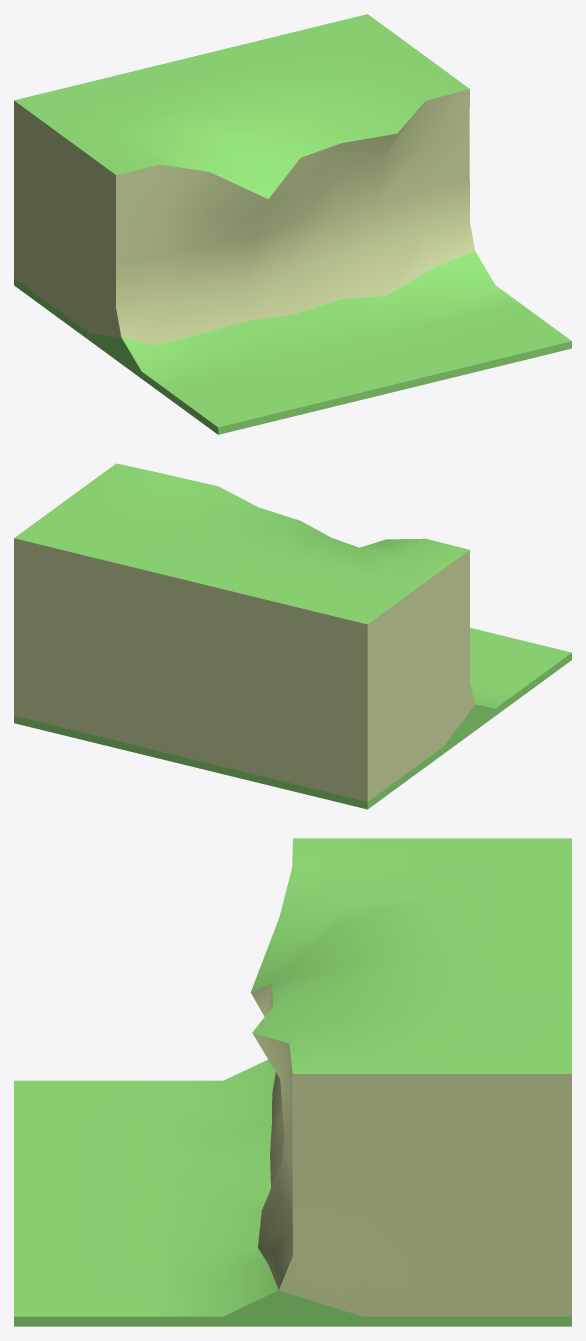
The model's file is wall_straight_1_1.glb.
3 views of the same model, one above another, from view 1: azimuth 30°, elevation 25°; view 2: azimuth 150°, elevation 25°; view 3: azimuth 270°, elevation 25° (orthographic). The views are drawn at different scales.
Parts seen in each view (by area): view 1: wall_straight_1; view 2: wall_straight_1; view 3: wall_straight_1.
Part boxes in pixels (x1,y1,x2,y2): wall_straight_1: [14, 14, 571, 434]; wall_straight_1: [14, 463, 571, 809]; wall_straight_1: [14, 838, 571, 1326].
Bounding box in the file's own units: 2 × 1 × 2.
